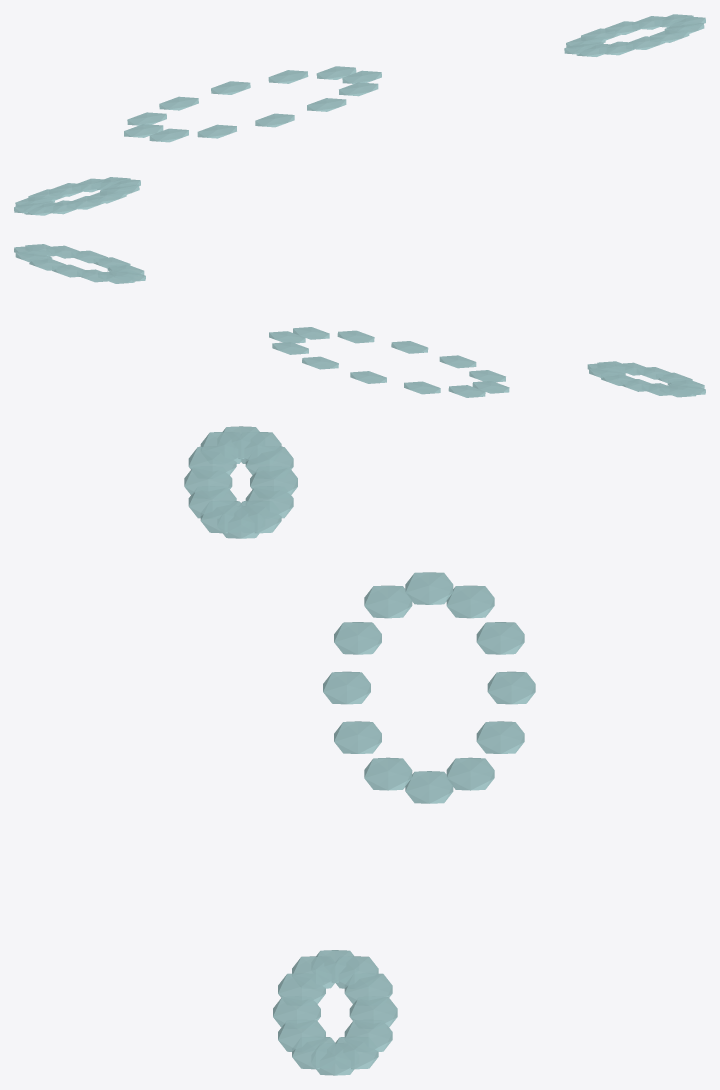
The model's file is WaterfallIsland_Foam.obj.
The picture shows the model from 3 angles, top to bottom: view 1: azimuth 30°, elevation 25°; view 2: azimuth 150°, elevation 25°; view 3: azimuth 270°, elevation 25°; orthographic projection. The views are drawn at different scales.
Visible parts, largest first — view 1: WaterfallIsland_Foam; view 2: WaterfallIsland_Foam; view 3: WaterfallIsland_Foam.
Part boxes in pixels (x1=…): WaterfallIsland_Foam: x1=14, y1=14, x2=705, y2=215; WaterfallIsland_Foam: x1=14, y1=244, x2=705, y2=397; WaterfallIsland_Foam: x1=184, y1=426, x2=535, y2=1075.
Bounding box in the file's own units: 98.37 × 0.44 × 22.41.
Materials: 1 (1 with a texture image).
